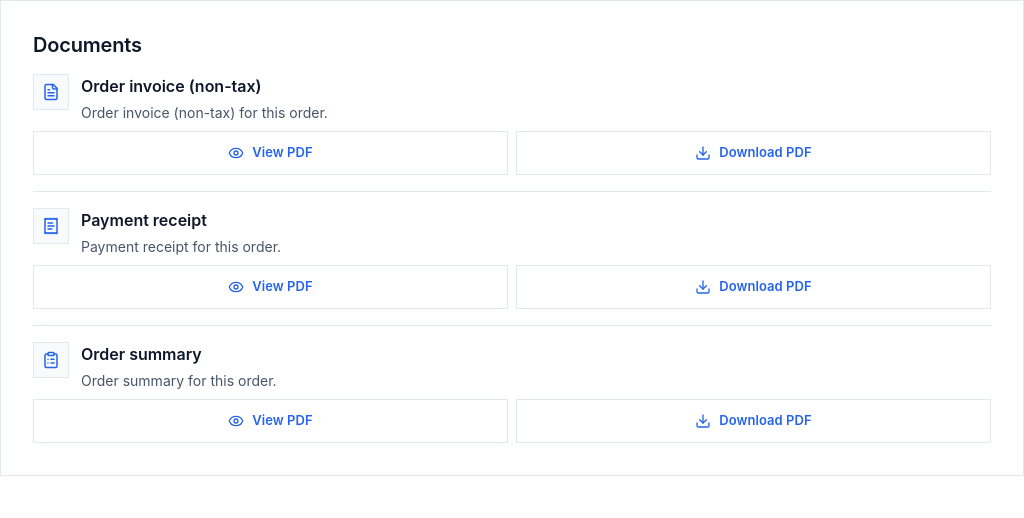
Test: error handling › shows the matching message for HTTP status 422
The width and height of the screenshot is (1024, 518).
What coordinates should you click on to do the following:
click the button "Download PDF" below "Order invoice (non-tax) for this order."
I would click on:
 (754, 153)
Its box is [516,131,991,175].
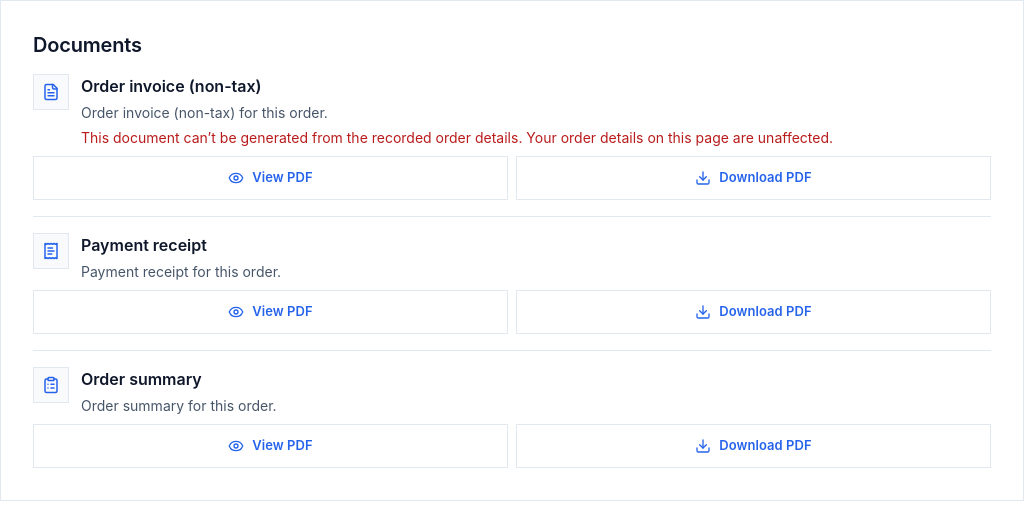
Result: the message shows "This document can’t be generated from the recorded order details. Your order details on this page are unaffected." at [81,129,833,146]
